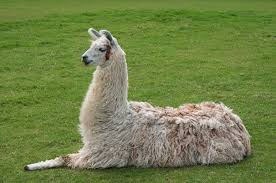alpaca: (23, 27, 252, 171)
